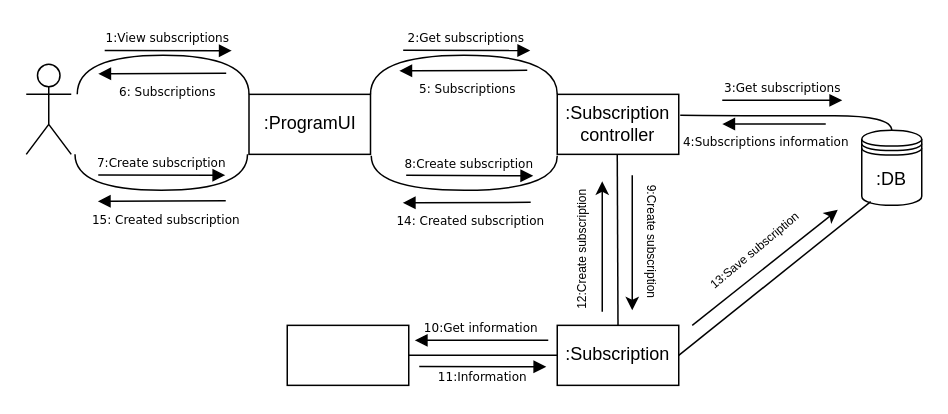
This 948x414 diagram has some shape labels left out. Each missing label, with the centre of its shape:
:Subscription servise API: point 347,354
User: point 48,108
